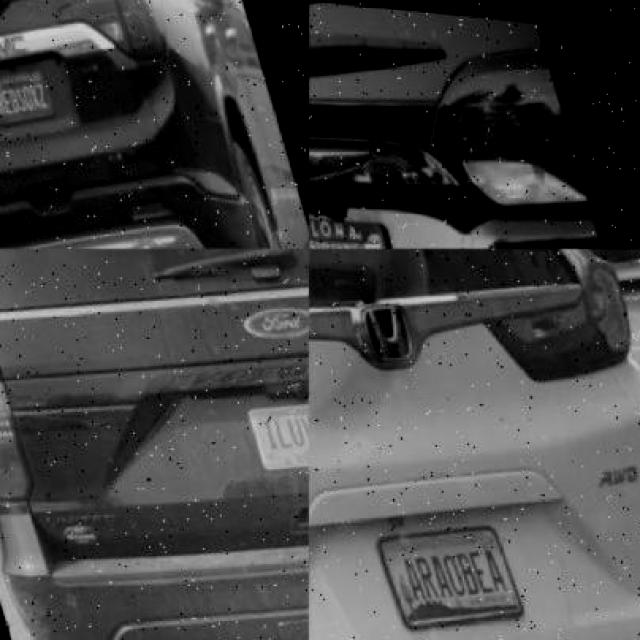licenseplate: (363, 510, 516, 625), (310, 188, 413, 250), (238, 392, 315, 463), (0, 52, 52, 125)
